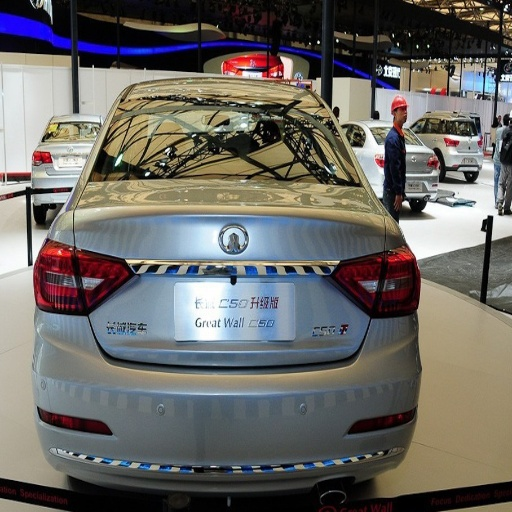back_bumper: (36, 308, 419, 507)
tailgate: (78, 174, 378, 366)
